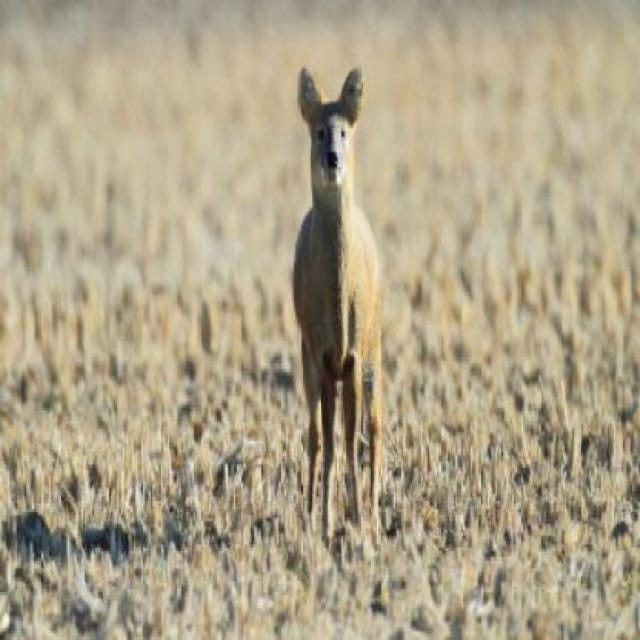deer: (292, 60, 382, 543)
